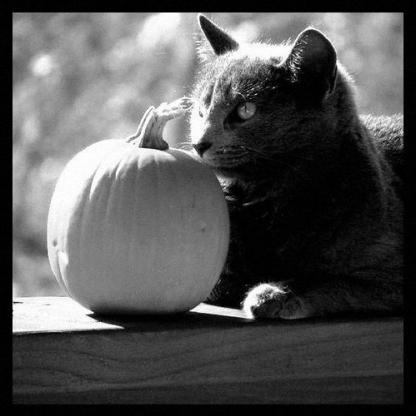cat: (190, 13, 415, 320)
